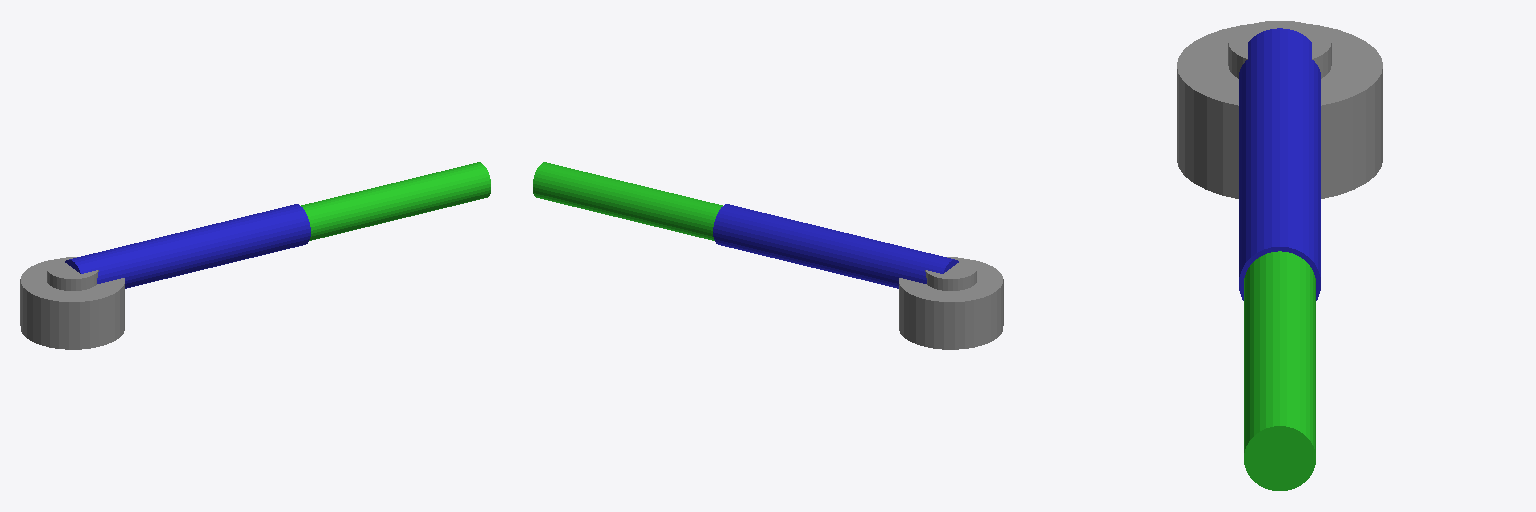
The robot description file, URDF, robot "three_dof_arm":
<?xml version="1.0"?>
<robot name="three_dof_arm">

  <!-- ================= MATERIALS ================= -->
  <material name="gray">
    <color rgba="0.6 0.6 0.6 1"/>
  </material>

  <material name="blue">
    <color rgba="0.2 0.2 0.8 1"/>
  </material>

  <material name="green">
    <color rgba="0.2 0.8 0.2 1"/>
  </material>

  <!-- ================= BASE ================= -->
  <link name="base_link">
    <visual>
      <geometry>
        <cylinder radius="0.1" length="0.1"/>
      </geometry>
      <material name="gray"/>
    </visual>

    <collision>
      <geometry>
        <cylinder radius="0.1" length="0.1"/>
      </geometry>
    </collision>

    <inertial>
      <mass value="2"/>
      <origin xyz="0 0 0"/>
      <inertia ixx="0.01" iyy="0.01" izz="0.01"
               ixy="0" ixz="0" iyz="0"/>
    </inertial>
  </link>

  <!-- ================= ROTARY LINK (KEY FIX) ================= -->
  <link name="rotary_link">
    <visual>
      <geometry>
        <cylinder radius="0.05" length="0.05"/>
      </geometry>
      <material name="gray"/>
    </visual>

    <collision>
      <geometry>
        <cylinder radius="0.05" length="0.05"/>
      </geometry>
    </collision>

    <inertial>
      <mass value="0.5"/>
      <origin xyz="0 0 0"/>
      <inertia ixx="0.005" iyy="0.005" izz="0.005"
               ixy="0" ixz="0" iyz="0"/>
    </inertial>
  </link>

  <!-- ================= LINK 1 ================= -->
  <link name="link1">
    <visual>
      <geometry>
        <cylinder radius="0.04" length="0.5"/>
      </geometry>
      <origin xyz="0.25 0 0" rpy="0 1.5708 0"/>
      <material name="blue"/>
    </visual>

    <collision>
      <geometry>
        <cylinder radius="0.04" length="0.5"/>
      </geometry>
      <origin xyz="0.25 0 0" rpy="0 1.5708 0"/>
    </collision>

    <inertial>
      <mass value="1"/>
      <origin xyz="0.25 0 0"/>
      <inertia ixx="0.02" iyy="0.02" izz="0.01"
               ixy="0" ixz="0" iyz="0"/>
    </inertial>
  </link>

  <!-- ================= LINK 2 ================= -->
  <link name="link2">
    <visual>
      <geometry>
        <cylinder radius="0.035" length="0.4"/>
      </geometry>
      <origin xyz="0.2 0 0" rpy="0 1.5708 0"/>
      <material name="green"/>
    </visual>

    <collision>
      <geometry>
        <cylinder radius="0.035" length="0.4"/>
      </geometry>
      <origin xyz="0.2 0 0" rpy="0 1.5708 0"/>
    </collision>

    <inertial>
      <mass value="0.8"/>
      <origin xyz="0.2 0 0"/>
      <inertia ixx="0.01" iyy="0.01" izz="0.008"
               ixy="0" ixz="0" iyz="0"/>
    </inertial>
  </link>

  <!-- ================= JOINTS ================= -->

  <!-- DOF 1: Base Yaw -->
  <joint name="joint_yaw" type="revolute">
    <parent link="base_link"/>
    <child link="rotary_link"/>
    <origin xyz="0 0 0.05"/>
    <axis xyz="0 0 1"/>
    <limit lower="-3.14" upper="3.14" effort="10" velocity="1"/>
  </joint>

  <!-- DOF 2: Shoulder Pitch -->
  <joint name="joint_pitch" type="revolute">
    <parent link="rotary_link"/>
    <child link="link1"/>
    <origin xyz="0 0 0"/>
    <axis xyz="0 1 0"/>
    <limit lower="-1.57" upper="1.57" effort="10" velocity="1"/>
  </joint>

  <!-- DOF 3: Elbow -->
  <joint name="joint_elbow" type="revolute">
    <parent link="link1"/>
    <child link="link2"/>
    <origin xyz="0.5 0 0"/>
    <axis xyz="0 1 0"/>
    <limit lower="-1.57" upper="1.57" effort="10" velocity="1"/>
  </joint>

</robot>

--- Facts derived from the render (not from the file) ---
3 views of the same robot in one strip: view 1: azimuth 30°, elevation 25°; view 2: azimuth 150°, elevation 25°; view 3: azimuth 270°, elevation 25° (orthographic).
Model three_dof_arm with 4 links and 3 joints (3 revolute), rooted at base_link, posed all joints at 0.
Visible links, largest first — view 1: link1, link2, base_link, rotary_link; view 2: link1, link2, base_link, rotary_link; view 3: link1, base_link, link2, rotary_link.
Link boxes in pixels (box(x1,y1,x2,y2)): link1: box(65, 204, 310, 288); link2: box(301, 162, 490, 240); base_link: box(20, 259, 124, 349); rotary_link: box(47, 257, 98, 290); link1: box(713, 204, 958, 288); link2: box(533, 162, 722, 240); base_link: box(899, 259, 1003, 349); rotary_link: box(925, 257, 976, 290); link1: box(1239, 28, 1320, 300); base_link: box(1177, 24, 1382, 198); link2: box(1244, 251, 1315, 490); rotary_link: box(1228, 21, 1331, 78).
Size in the robot's own frame: 1 by 0.2 by 0.14 metres.
Geometry: primitives only (box / cylinder / sphere), no mesh files.
